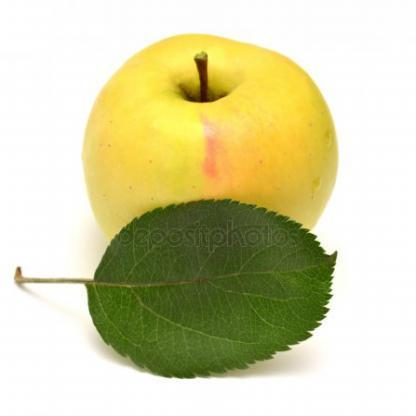Apple leaf: (81, 195, 355, 384)
